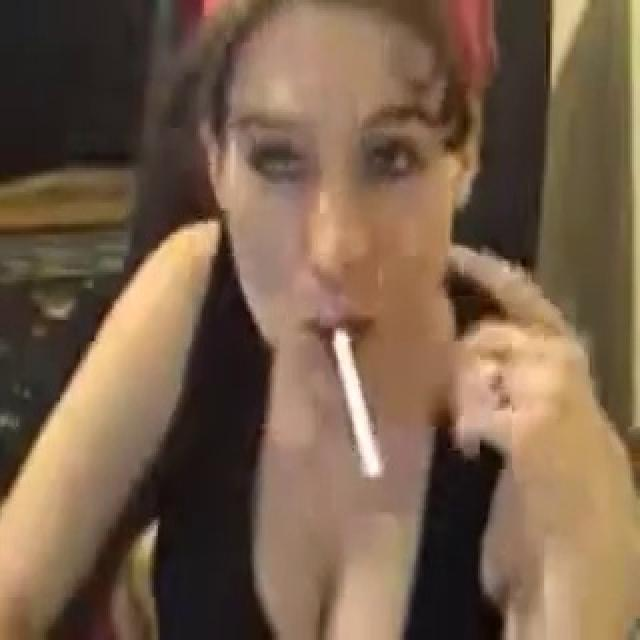Cigarette: (331, 326, 386, 483)
Mouth: (299, 304, 379, 354)
